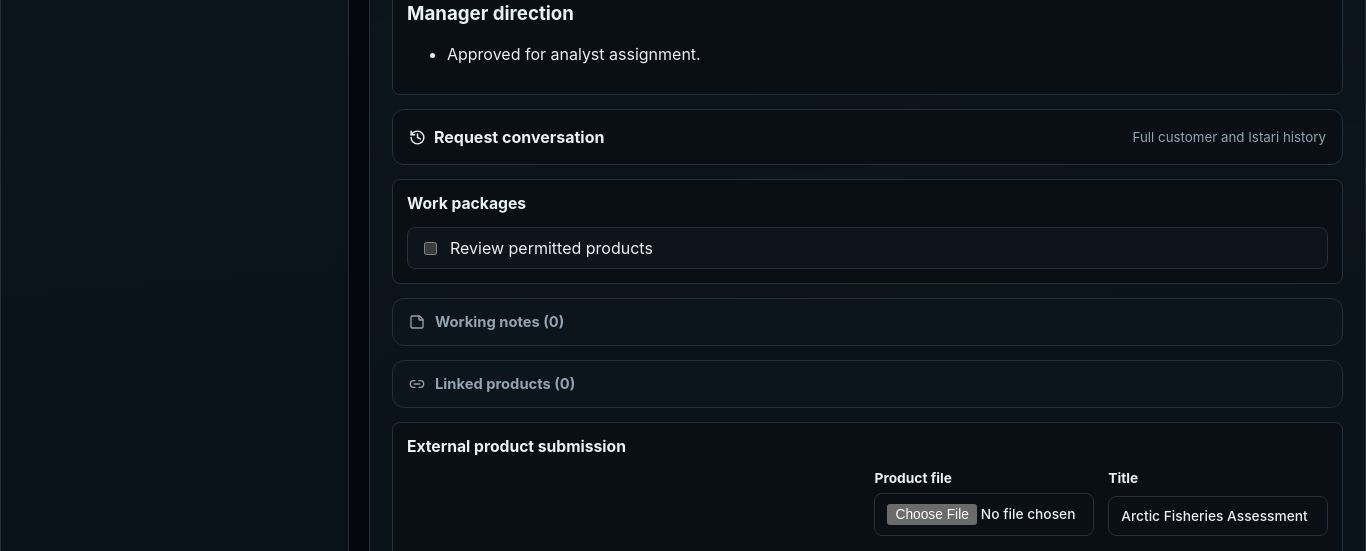
Test: shows a retryable analyst product search failure
(page scrolled)
Click the heading "Linked products (0)" at {"x": 492, "y": 384}, box left=409, top=375, right=575, bottom=393
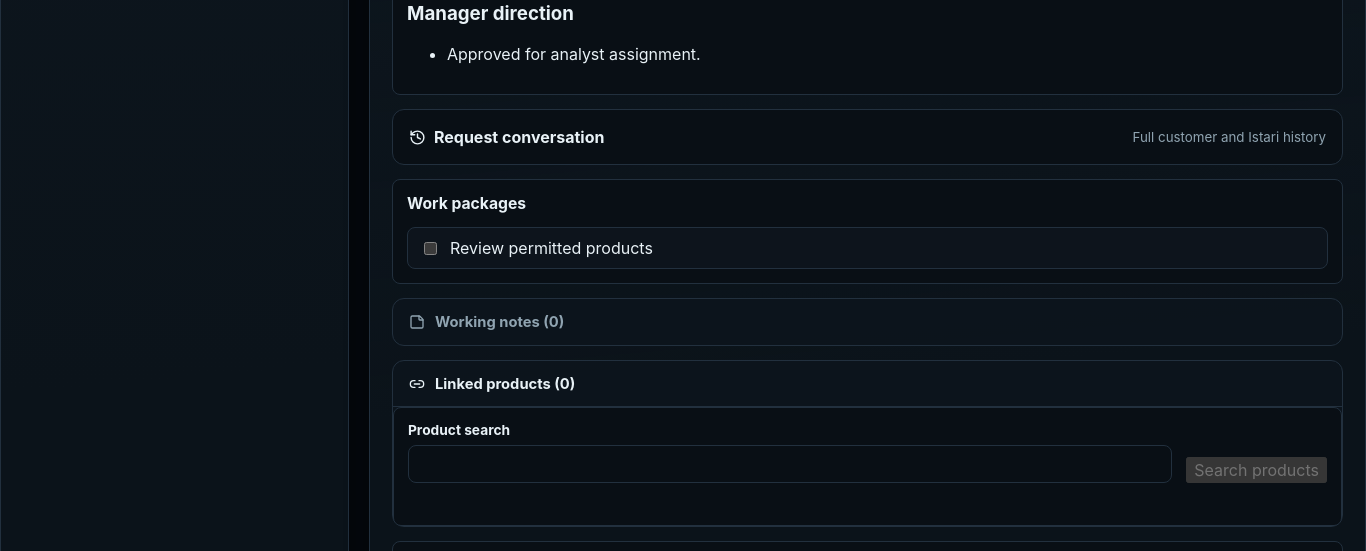
Type "assessment" into the field labelled "Product search" at {"x": 790, "y": 464}, box left=408, top=445, right=1172, bottom=483
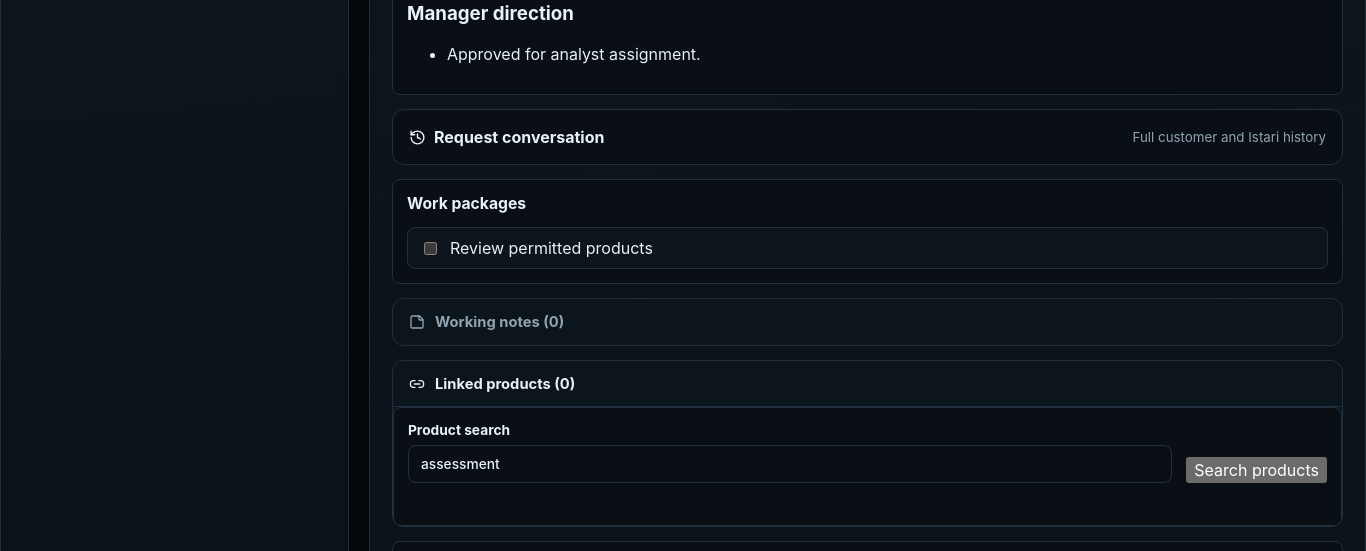
Click the button "Search products" at {"x": 1257, "y": 470}, box left=1186, top=457, right=1327, bottom=483
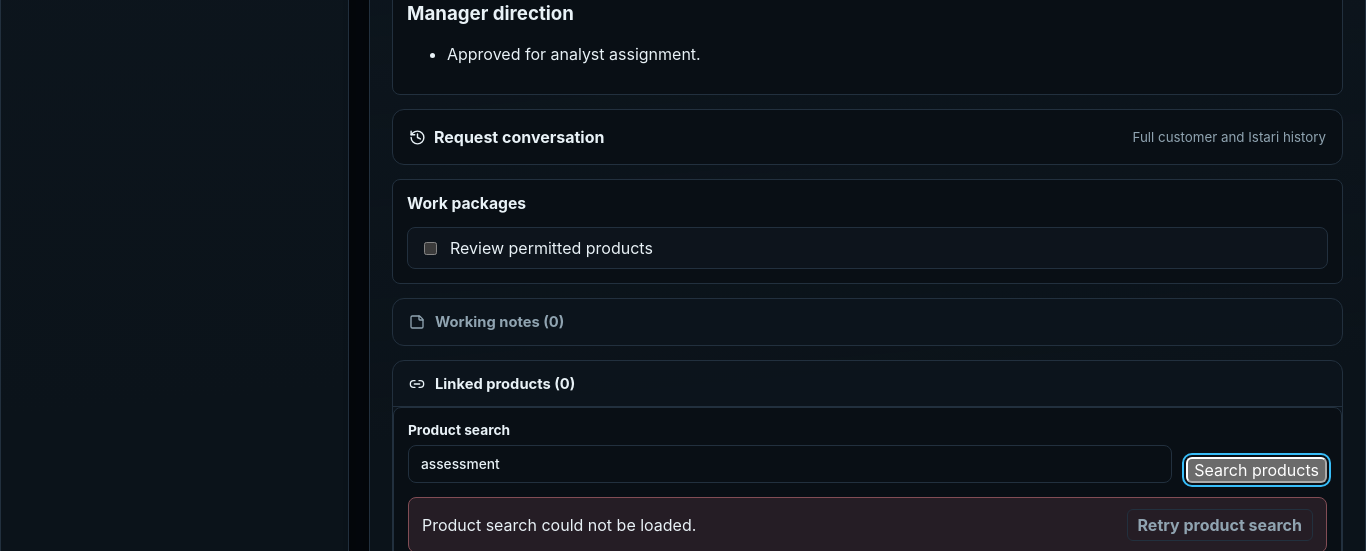
Check: the button "Assessment Draft Pack" is not shown
Check: the text "Product search could not be loaded." is shown, box left=422, top=515, right=696, bottom=535
Click the button "Retry product search" at {"x": 1220, "y": 525}, box left=1126, top=509, right=1313, bottom=541
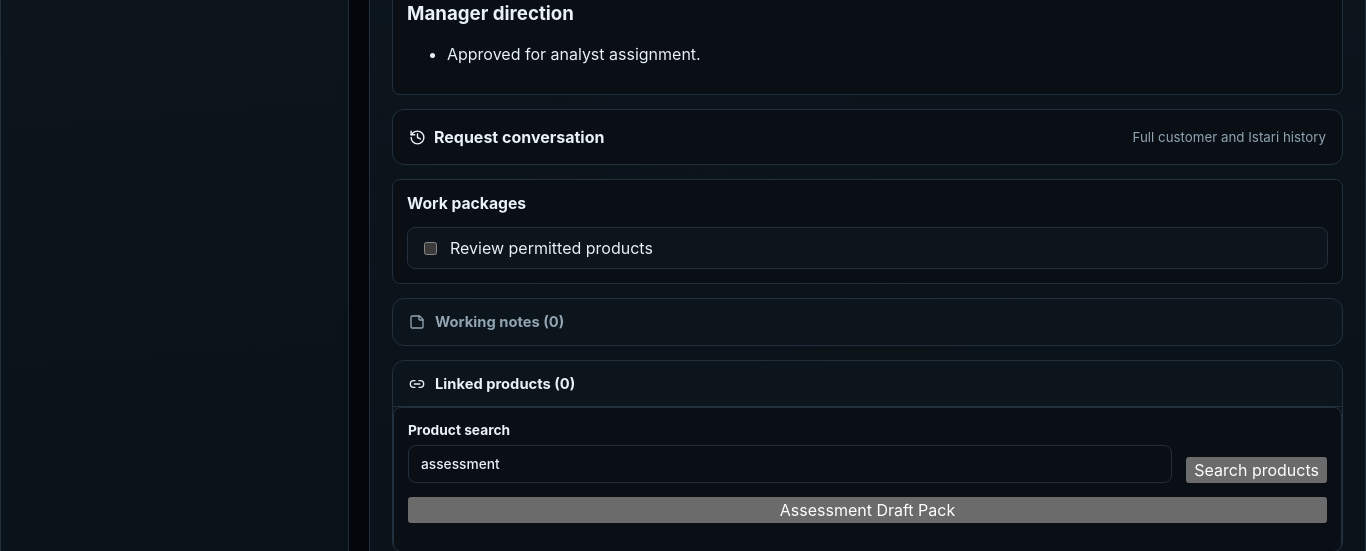
Check: the button "Assessment Draft Pack" is shown, box left=408, top=497, right=1327, bottom=523
